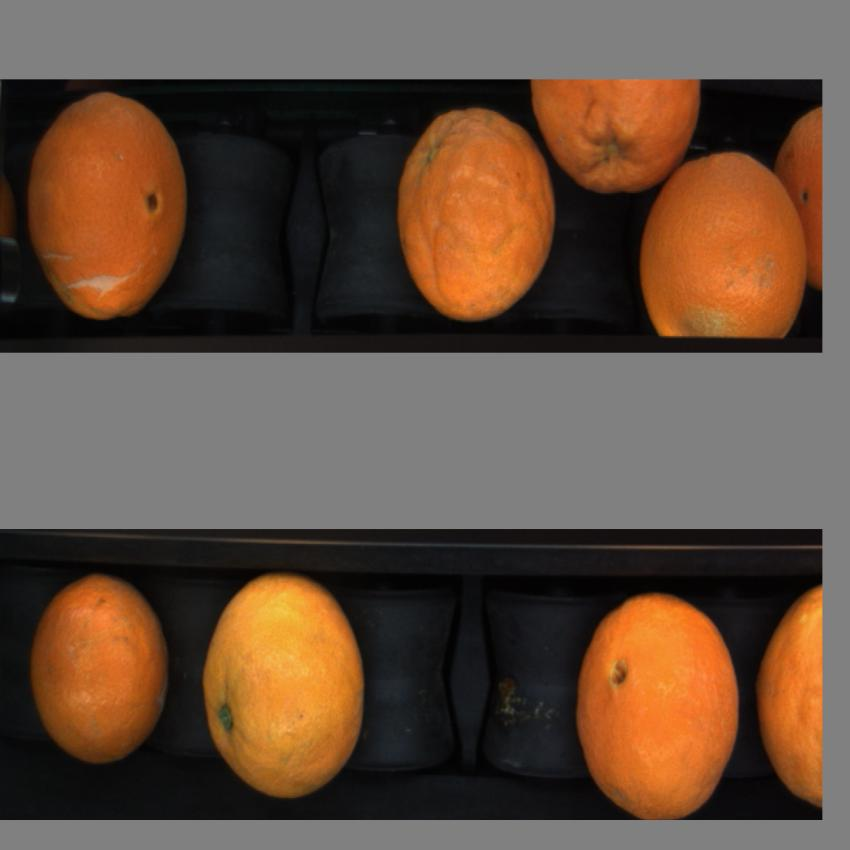Buen estado: (200, 572, 370, 805), (572, 587, 744, 817), (637, 142, 811, 352), (529, 78, 704, 197), (754, 576, 820, 805), (775, 104, 822, 284)
Mal estado: (23, 89, 192, 329), (395, 102, 559, 320), (28, 573, 175, 771)
